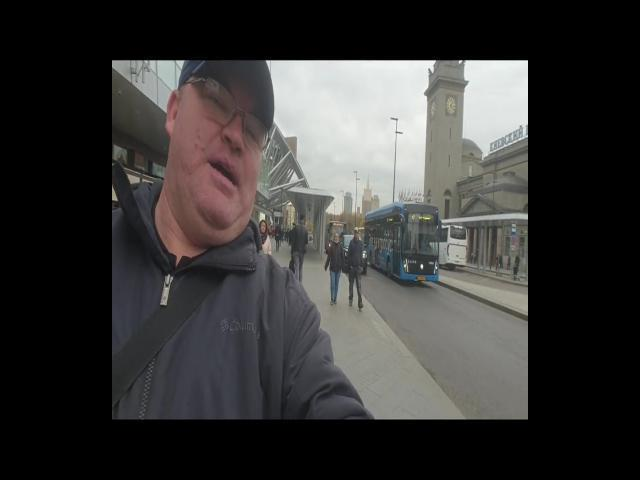bus: (364, 202, 442, 284), (444, 223, 468, 266), (325, 222, 347, 253)
